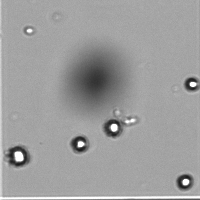Living Cell: (1, 140, 35, 174), (64, 131, 94, 156), (172, 169, 197, 195), (99, 116, 124, 139), (179, 71, 200, 97)
